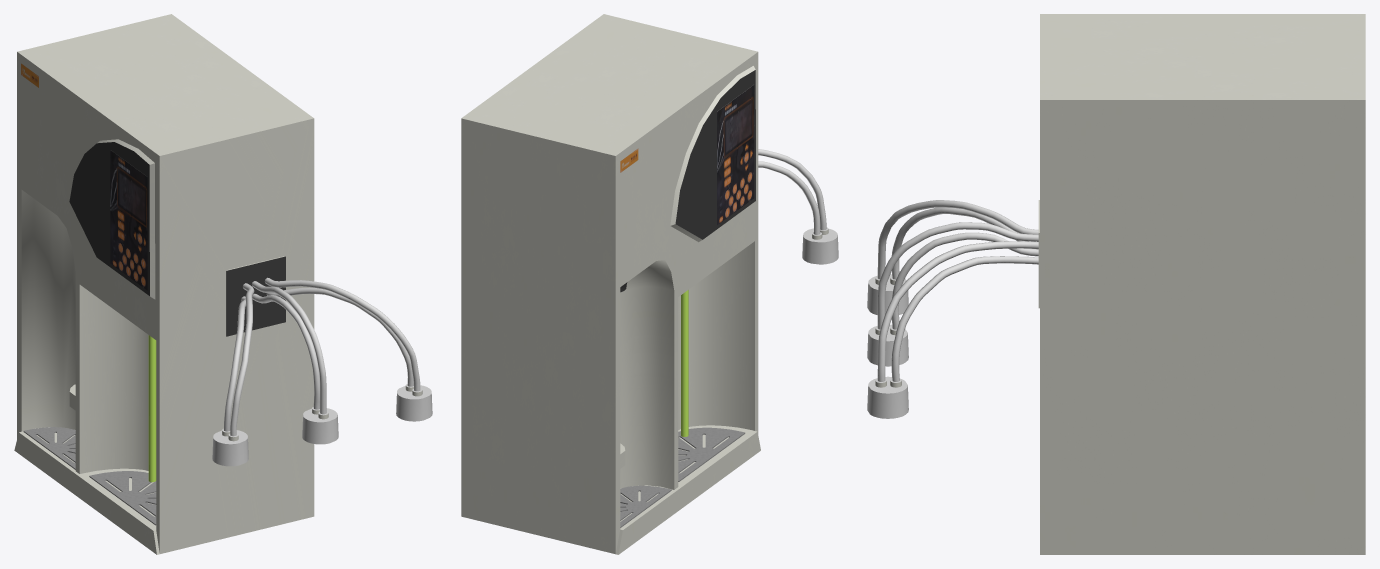
The model's file is SM_自动凯氏定氮仪.fbx.
3 renders of one model, left to right at view 1: azimuth 30°, elevation 25°; view 2: azimuth 150°, elevation 25°; view 3: azimuth 270°, elevation 25°, orthographic. The views are drawn at different scales.
Visible parts, largest first — view 1: SM_自动凯氏定氮仪; view 2: SM_自动凯氏定氮仪; view 3: SM_自动凯氏定氮仪.
Part boxes in pixels (x1,y1,x2,y2): SM_自动凯氏定氮仪: [14, 14, 432, 554]; SM_自动凯氏定氮仪: [461, 14, 838, 554]; SM_自动凯氏定氮仪: [867, 14, 1365, 554].
Bounding box in the file's own units: 0.3728 × 0.6588 × 0.6544.
